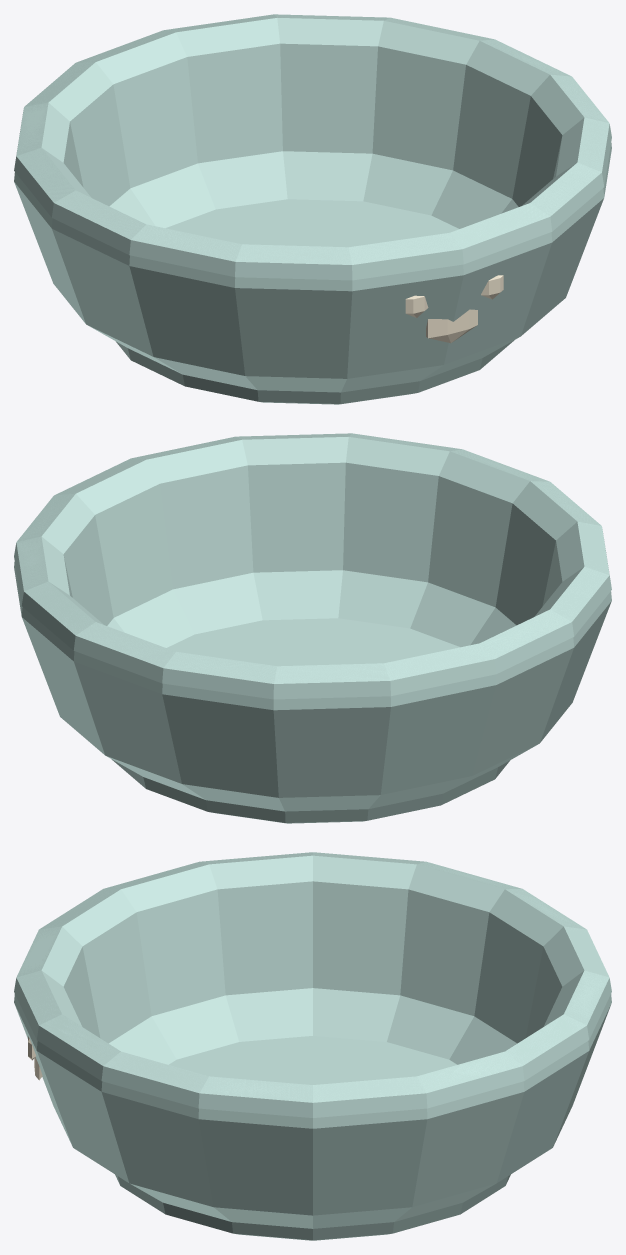
The model's file is crafted-cat-food-5-0.glb.
3 renders of one model, top to bottom at view 1: azimuth 30°, elevation 25°; view 2: azimuth 150°, elevation 25°; view 3: azimuth 270°, elevation 25°, orthographic.
Visible parts, largest first — view 1: ceramic-bowl, glazed-rim, foot-ring, paw-pad; view 2: ceramic-bowl, glazed-rim, foot-ring; view 3: ceramic-bowl, glazed-rim, foot-ring.
Boxes of the visible parts, bbox=[...] form: ceramic-bowl: bbox=[14, 14, 611, 392]; glazed-rim: bbox=[14, 14, 611, 280]; foot-ring: bbox=[116, 340, 514, 404]; paw-pad: bbox=[426, 309, 477, 343]; ceramic-bowl: bbox=[14, 433, 611, 811]; glazed-rim: bbox=[14, 433, 611, 699]; foot-ring: bbox=[111, 759, 509, 823]; ceramic-bowl: bbox=[14, 852, 611, 1228]; glazed-rim: bbox=[14, 852, 611, 1117]; foot-ring: bbox=[115, 1174, 510, 1240].
Bounding box in the file's own units: 0.76 × 0.265 × 0.76.
